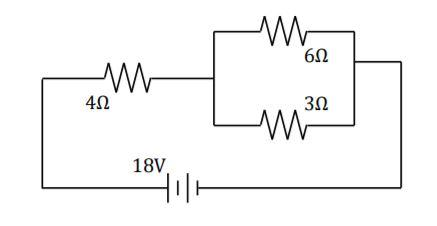resistor: (247, 100, 306, 153), (94, 53, 169, 94), (245, 8, 309, 47)
